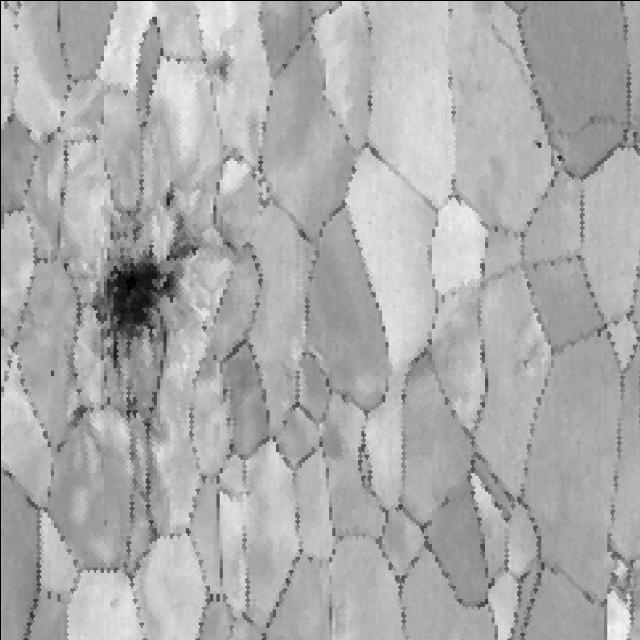good_void: (87, 231, 176, 379), (164, 211, 200, 267), (202, 42, 233, 87), (118, 374, 147, 420), (66, 395, 89, 426), (160, 183, 175, 212), (555, 150, 566, 165), (533, 136, 542, 151), (48, 366, 55, 378)
